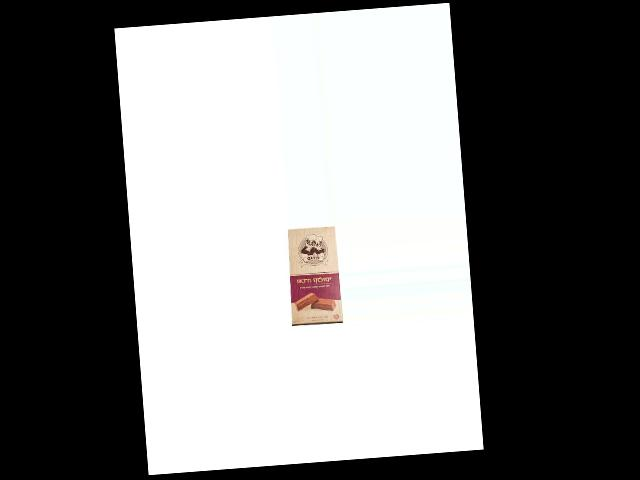chocolate: (283, 225, 341, 326)
